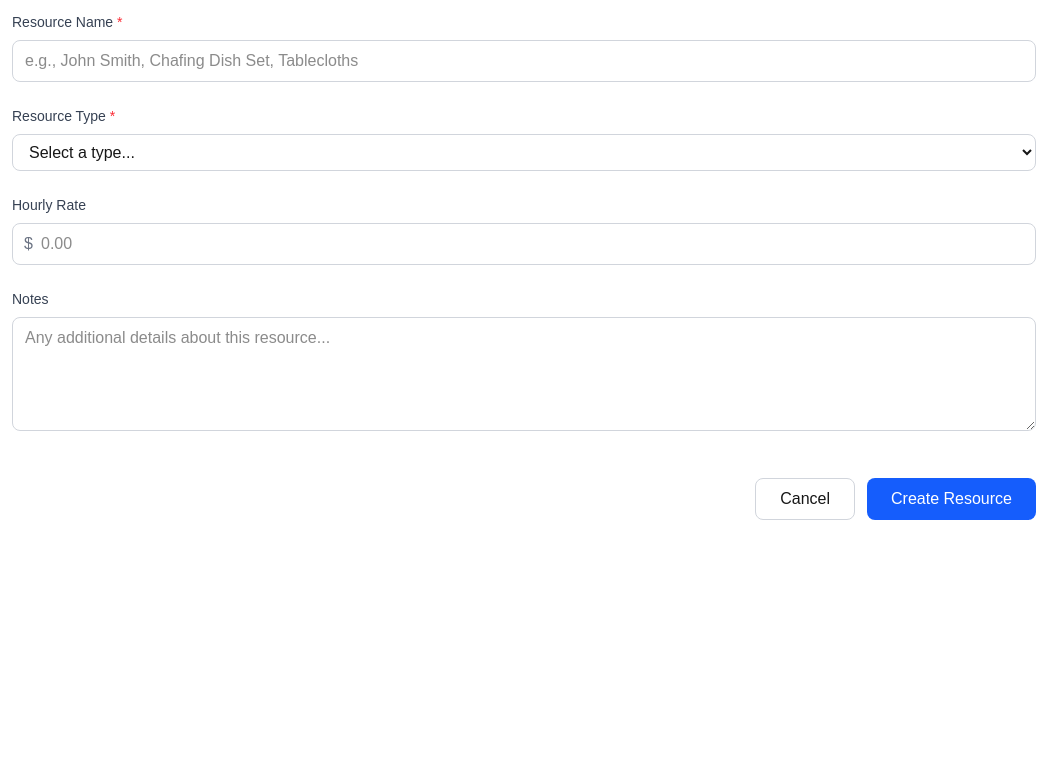
it: ResourceForm › validation › shows error when type is not selected on submit
The image size is (1048, 780).
Type "Test Resource" into the field labelled "Resource Name *" at (524,61), box [12,40,1036,82]
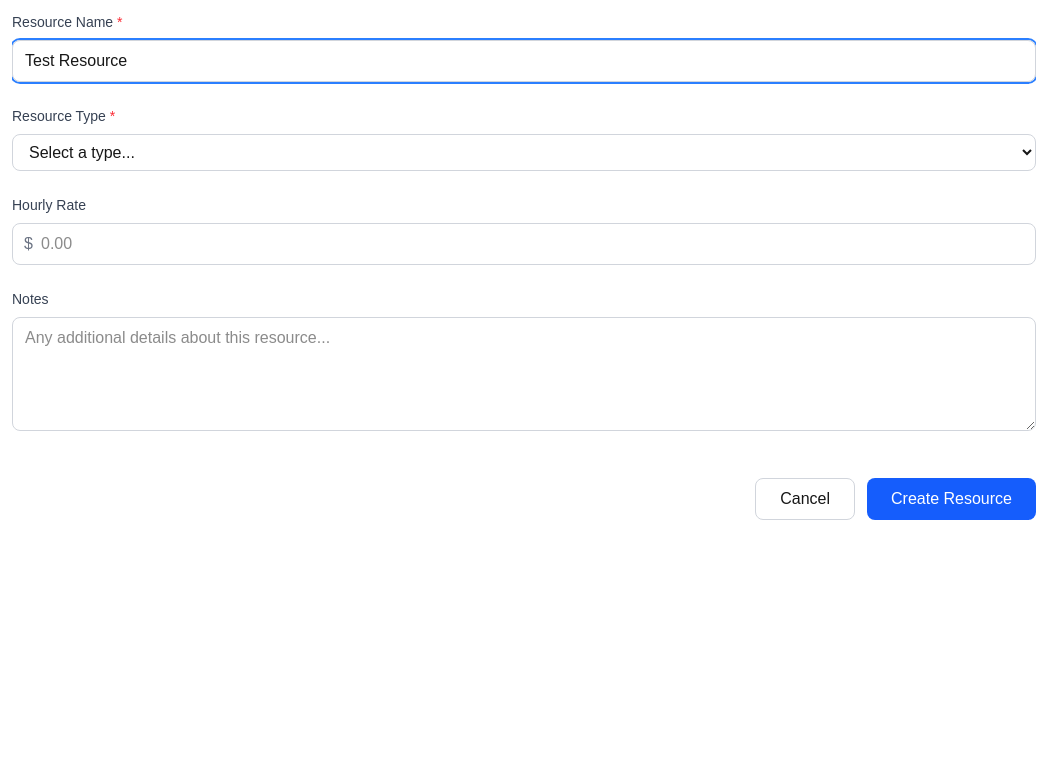
Click the button "Create Resource" at (952,499), box [867,478,1036,520]
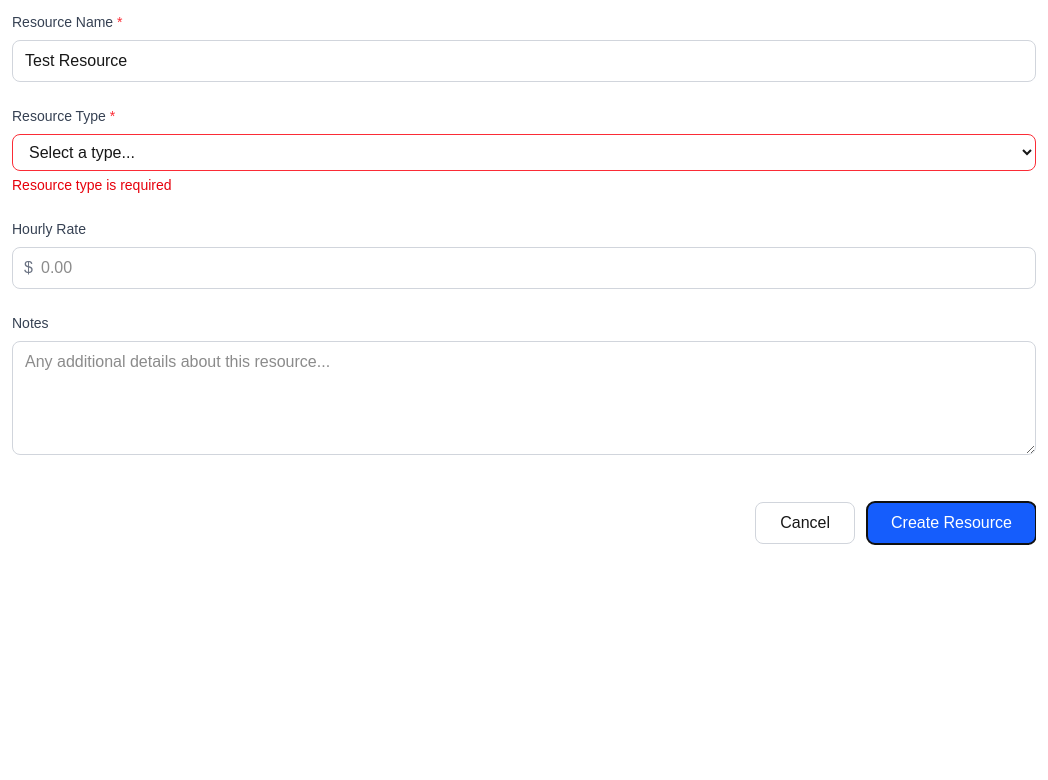
Now the text "Resource type is required" is shown, box [12,177,172,193]
